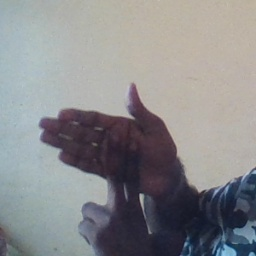N: (33, 81, 178, 255)
